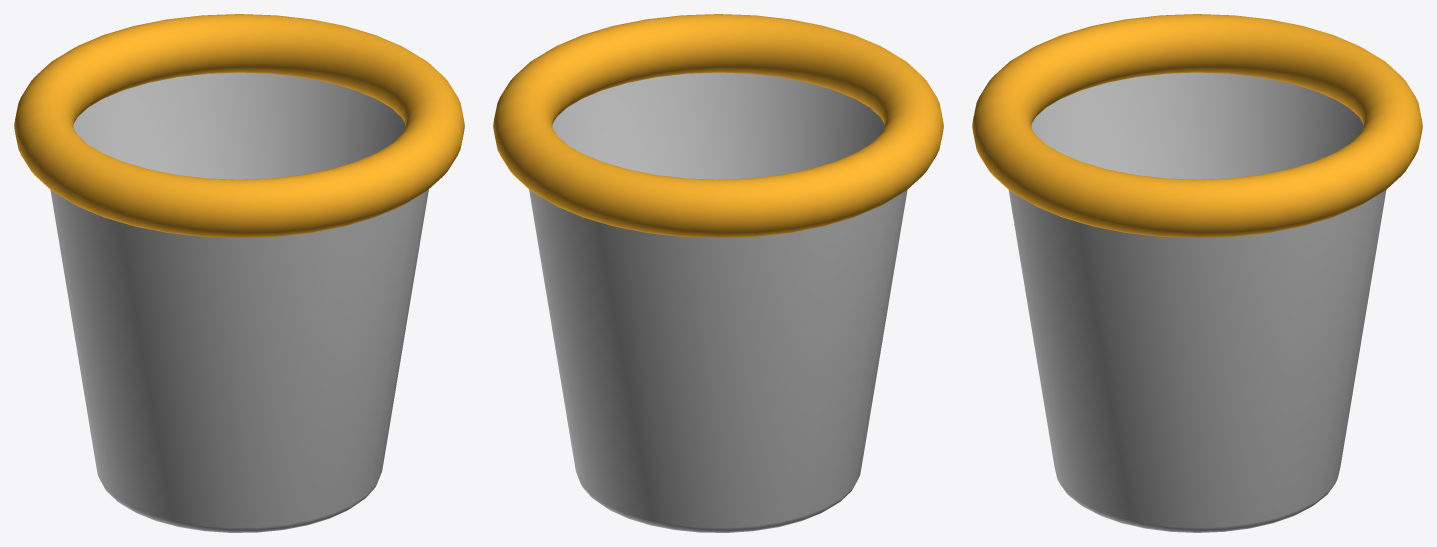
The model's file is bucket.fbx.
3 views of the same model, side by side, from view 1: azimuth 30°, elevation 25°; view 2: azimuth 150°, elevation 25°; view 3: azimuth 270°, elevation 25° (orthographic).
Parts seen in each view (by area): view 1: Bucket.003, Torus.002; view 2: Bucket.003, Torus.002; view 3: Bucket.003, Torus.002.
Boxes of the visible parts, x1,y1,x2,y2 form: Bucket.003: [50, 72, 428, 532]; Torus.002: [14, 14, 464, 238]; Bucket.003: [529, 72, 907, 532]; Torus.002: [493, 14, 943, 238]; Bucket.003: [1008, 72, 1386, 532]; Torus.002: [972, 14, 1422, 238].
Bounding box in the file's own units: 12.42 × 11.47 × 12.42.
